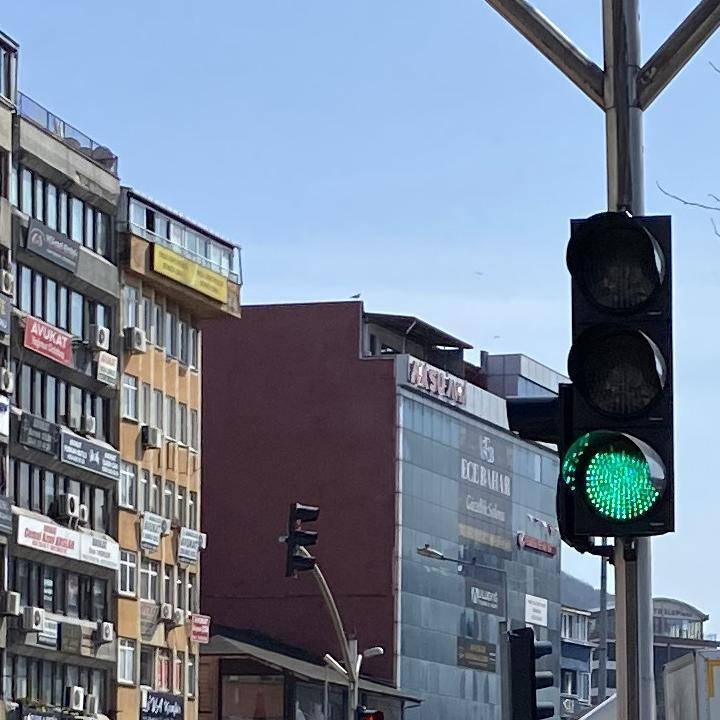green: (558, 211, 676, 541)
